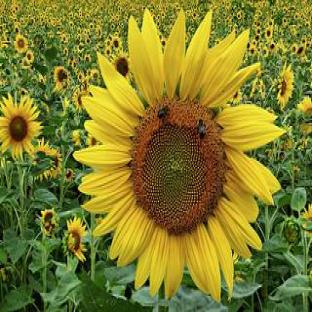sunflower: (78, 10, 285, 303)
